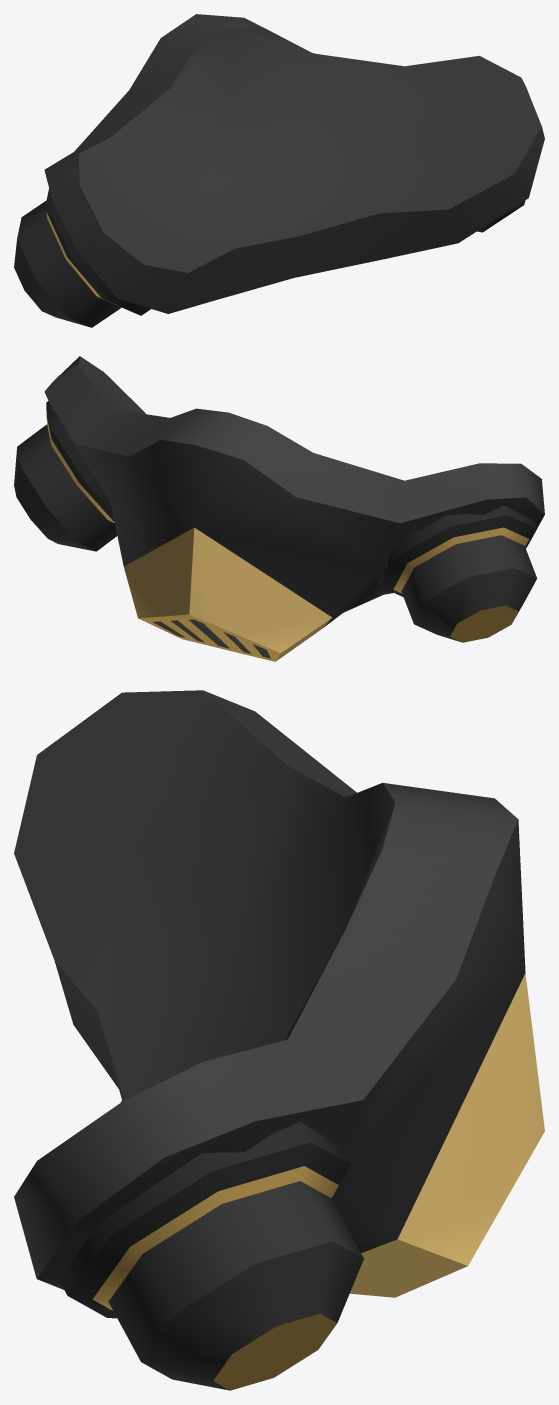
The model's file is Headgear_29.fbx.
3 views of the same model, one above another, from view 1: azimuth 30°, elevation 25°; view 2: azimuth 150°, elevation 25°; view 3: azimuth 270°, elevation 25° (orthographic). The views are drawn at different scales.
Visible parts, largest first — view 1: Headgear_29; view 2: Headgear_29; view 3: Headgear_29.
Part boxes in pixels (x1,y1,x2,y2): Headgear_29: (14, 14, 544, 327); Headgear_29: (14, 356, 544, 661); Headgear_29: (14, 690, 544, 1390).
Size of the model in its own units: 63.05 by 28.61 by 30.44.
